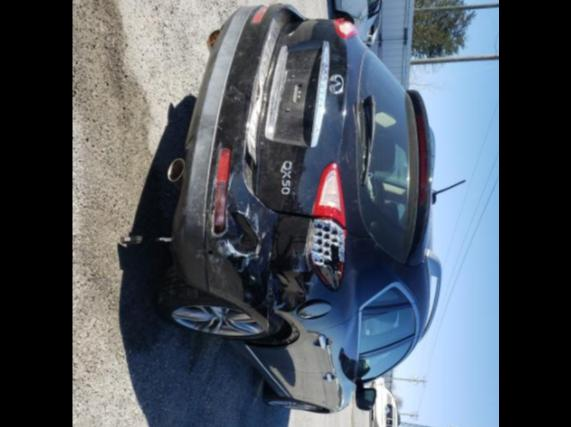Broken part: (243, 11, 286, 199), (264, 213, 281, 334), (214, 181, 227, 234), (297, 298, 329, 310)
Cracked: (308, 215, 346, 292)
Dent: (205, 203, 313, 317)
Missing part: (257, 309, 299, 348), (281, 70, 317, 113)
Scratch: (179, 115, 218, 263), (216, 200, 268, 274), (213, 84, 247, 174), (205, 146, 225, 294)
